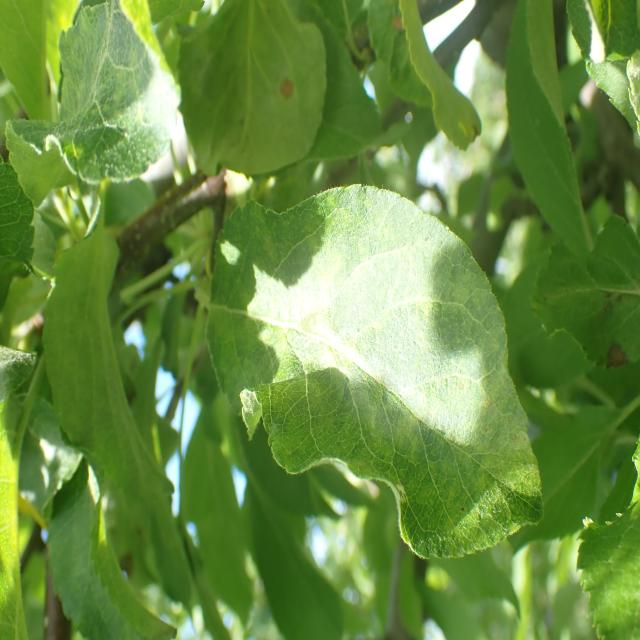scab: (238, 199, 534, 557)
